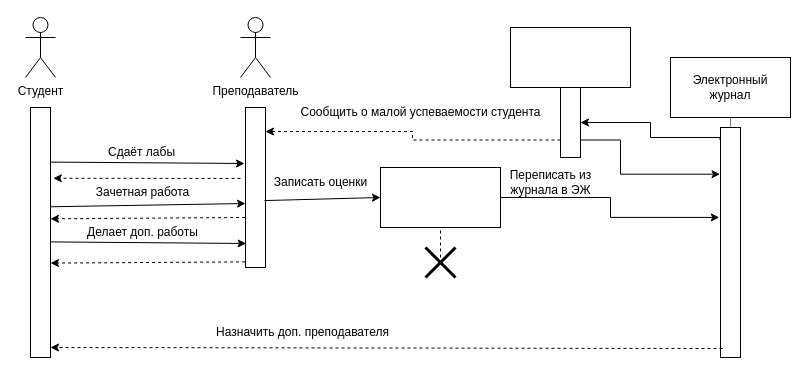
Image size: 808x375. Some labels were removed from this diagram. The shapes that lost their labels are listed below. From the top down, each one's centre as x and y in pixels, then its label:
the point at 570,57: Отчет по успеваемости
the point at 440,197: Журнал
